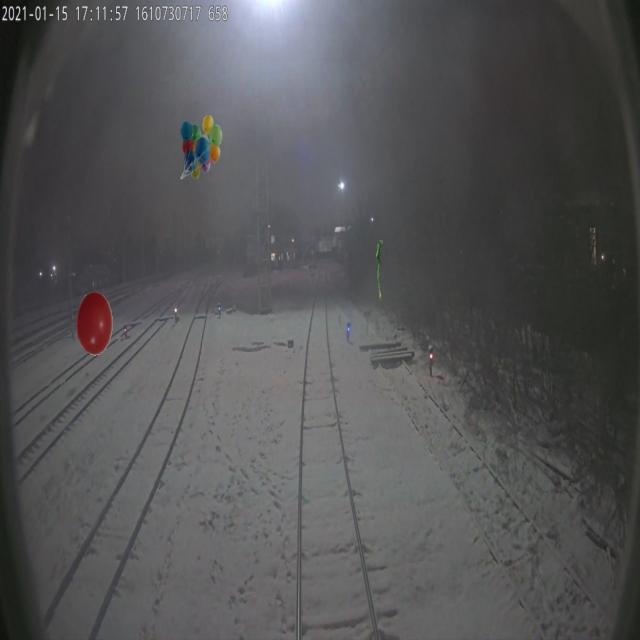balloon: (181, 115, 222, 179), (76, 292, 113, 356)
floating object: (376, 240, 382, 304)
